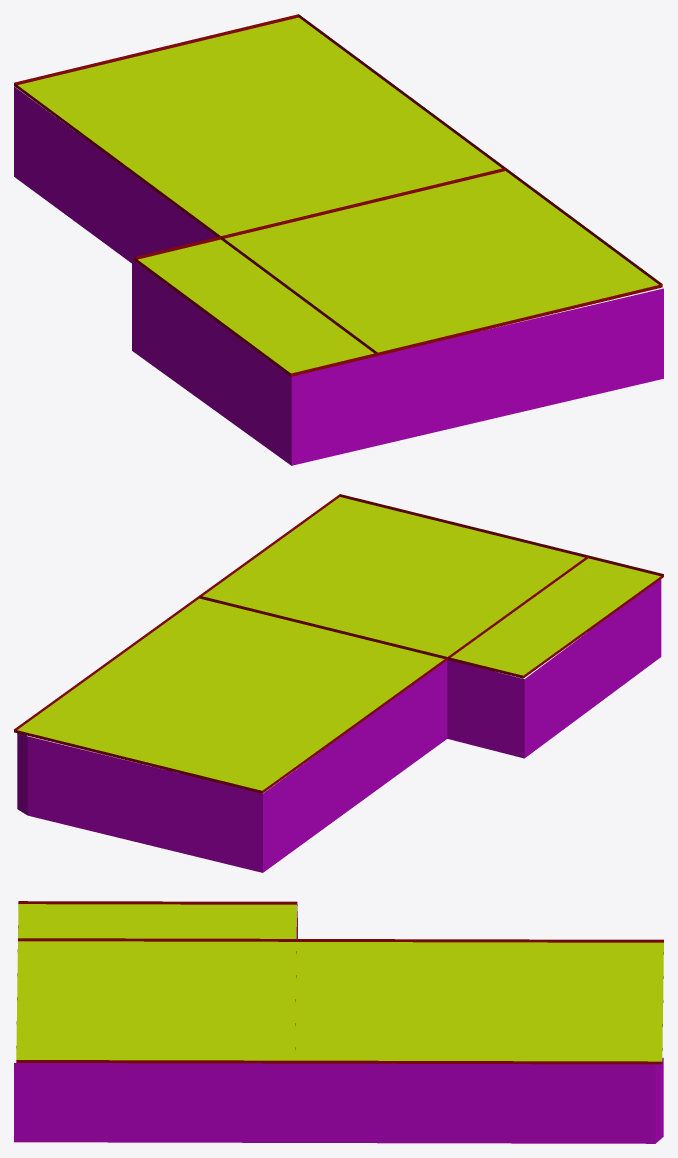
Rendered from zone_activite.glb.
3 views of the same model, one above another, from view 1: azimuth 30°, elevation 25°; view 2: azimuth 150°, elevation 25°; view 3: azimuth 270°, elevation 25° (orthographic). The views are drawn at different scales.
Visible parts, largest first — view 1: zone_activite; view 2: zone_activite; view 3: zone_activite.
Boxes of the visible parts, <box> form: zone_activite: <box>14,14,663,465</box>; zone_activite: <box>14,494,663,872</box>; zone_activite: <box>14,901,663,1143</box>.
Size of the model in its own units: 40.75 by 9.75 by 69.78.
